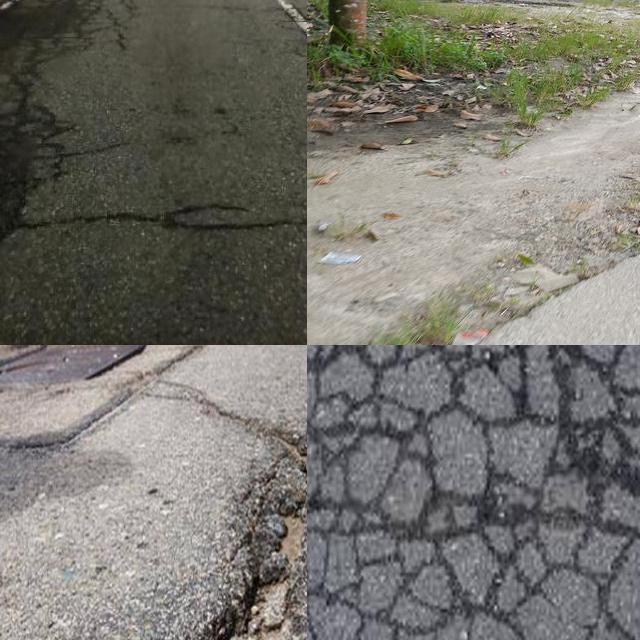Lubang: (197, 452, 307, 640)
Melintang: (16, 185, 307, 243)
Retak Buaya: (307, 345, 640, 640)
